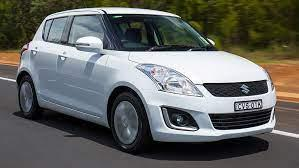Hatchback: (13, 7, 280, 154)
